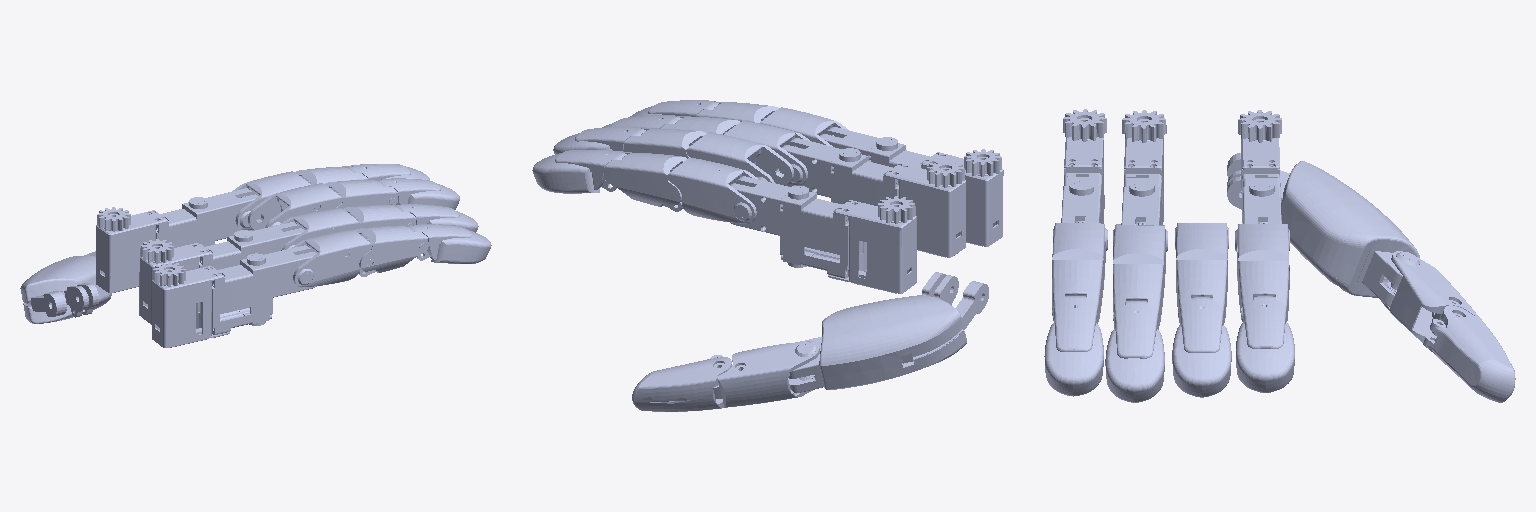
--- Render facts (derived) ---
The picture shows the robot from 3 angles, left to right: view 1: azimuth 30°, elevation 25°; view 2: azimuth 150°, elevation 25°; view 3: azimuth 270°, elevation 25°; orthographic projection.
Robot: rightHand_9dof — 19 links, 18 joints (18 revolute); root link base_link; default pose: all joints at 0.
Visible links, largest first — view 1: j5_1, j2_1, j4_1, j1_1, j5_2, j5_3, j3_1, j5_4, j3_3, j4_2, j3_2, j2_2 (+4 smaller); view 2: j2_1, j1_1, j4_1, j5_1, j1_2, j1_3, j2_2, j2_3, j2_4, j3_1, j4_2, j3_2 (+6 smaller); view 3: j1_1, j1_3, j4_4, j5_4, j3_3, j2_4, j4_1, j5_1, j2_1, j1_2, j3_2, j4_3 (+6 smaller).
Boxes of the visible links, box(x1,y1,x2,y2) form: j5_1: box(152, 245, 316, 347); j2_1: box(96, 188, 258, 292); j4_1: box(139, 222, 304, 324); j1_1: box(20, 255, 111, 323); j5_2: box(292, 229, 372, 287); j5_3: box(355, 225, 428, 276); j3_1: box(248, 183, 342, 229); j5_4: box(409, 224, 491, 263); j3_3: box(378, 178, 459, 209); j4_2: box(280, 208, 360, 250); j3_2: box(325, 180, 397, 208); j2_2: box(233, 171, 310, 229); j2_1: box(730, 176, 916, 293); j1_1: box(788, 272, 988, 393); j4_1: box(781, 138, 965, 257); j5_1: box(820, 127, 1003, 246); j1_2: box(713, 341, 819, 407); j1_3: box(632, 355, 731, 411); j2_2: box(667, 157, 757, 223); j2_3: box(604, 152, 686, 211); j2_4: box(532, 150, 626, 193); j3_1: box(686, 132, 793, 184); j4_2: box(723, 121, 809, 185); j3_2: box(623, 128, 706, 158); j1_1: box(1227, 153, 1419, 306); j1_3: box(1423, 305, 1515, 402); j4_4: box(1105, 301, 1164, 402); j5_4: box(1044, 296, 1103, 396); j3_3: box(1172, 297, 1231, 397); j2_4: box(1236, 296, 1294, 392); j4_1: box(1121, 110, 1166, 225); j5_1: box(1061, 109, 1106, 223); j2_1: box(1238, 110, 1281, 223); j1_2: box(1381, 251, 1478, 342); j3_2: box(1176, 260, 1227, 322); j4_3: box(1113, 264, 1164, 325).
Bounding box of the posed robot: 0.1912 × 0.1491 × 0.069 m (x, y, z).
Meshes: 19 distinct files referenced, 18 mesh visuals loaded (18 binary STL); not drawn: 1 (reference not matched to a file when rendering).

URDF robot description (rightHand_9dof):
<?xml version="1.0" encoding="utf-8"?>
<!-- This URDF was automatically created by SolidWorks to URDF Exporter! Originally created by Stephen Brawner ([email redacted])
     Commit Version: 1.6.0-1-g15f4949  Build Version: 1.6.7594.29634
     For more information, please see http://wiki.ros.org/sw_urdf_exporter -->
<robot
  name="rightHand_9dof">
  <link
    name="base_link">
    <inertial>
      <origin
        xyz="0.0683624336020756 -0.00133735775793573 0.00194443427036355"
        rpy="0 0 0" />
      <mass
        value="0.111516747827465" />
      <inertia
        ixx="7.24670674983265E-05"
        ixy="-4.12951337771663E-06"
        ixz="-1.83910865466763E-05"
        iyy="0.00012585425251154"
        iyz="1.46558354404392E-08"
        izz="0.000170635293519076" />
    </inertial>
    <visual>
      <origin
        xyz="0 0 0"
        rpy="0 0 0" />
      <geometry>
        <mesh
          filename="package://rightHand_9dof/meshes/base_link.STL" />
      </geometry>
      <material
        name="">
        <color
          rgba="0.792156862745098 0.819607843137255 0.933333333333333 1" />
      </material>
    </visual>
    <collision>
      <origin
        xyz="0 0 0"
        rpy="0 0 0" />
      <geometry>
        <mesh
          filename="package://rightHand_9dof/meshes/base_link.STL" />
      </geometry>
    </collision>
  </link>
  <link
    name="j1_1">
    <inertial>
      <origin
        xyz="0.00848406510253458 0.0295164327405254 -0.0108446381518449"
        rpy="0 0 0" />
      <mass
        value="0.0258720017182747" />
      <inertia
        ixx="2.30258679820338E-06"
        ixy="-7.66260362752493E-07"
        ixz="2.64209290902013E-07"
        iyy="2.83812470500852E-06"
        iyz="5.93022884843978E-07"
        izz="4.30290730491524E-06" />
    </inertial>
    <visual>
      <origin
        xyz="0 0 0"
        rpy="0 0 0" />
      <geometry>
        <mesh
          filename="package://rightHand_9dof/meshes/j1_1.STL" />
      </geometry>
      <material
        name="">
        <color
          rgba="0.792156862745098 0.819607843137255 0.933333333333333 1" />
      </material>
    </visual>
    <collision>
      <origin
        xyz="0 0 0"
        rpy="0 0 0" />
      <geometry>
        <mesh
          filename="package://rightHand_9dof/meshes/j1_1.STL" />
      </geometry>
    </collision>
  </link>
  <joint
    name="j1_1"
    type="revolute">
    <origin
      xyz="0.049276 0.020943 -0.010147"
      rpy="0 0 0" />
    <parent
      link="base_link" />
    <child
      link="j1_1" />
    <axis
      xyz="-1 0 0" />
    <limit
      lower="0"
      upper="1"
      effort="100"
      velocity="1" />
  </joint>
  <link
    name="j1_2">
    <inertial>
      <origin
        xyz="0.0185269940540907 -0.00863728702103245 0.000630679208129425"
        rpy="0 0 0" />
      <mass
        value="0.00436160052960547" />
      <inertia
        ixx="1.09538423598491E-07"
        ixy="-1.41463437716397E-10"
        ixz="-1.43454756297572E-08"
        iyy="3.72258200350998E-07"
        iyz="-1.3602170050025E-11"
        izz="3.01794866509649E-07" />
    </inertial>
    <visual>
      <origin
        xyz="0 0 0"
        rpy="0 0 0" />
      <geometry>
        <mesh
          filename="package://rightHand_9dof/meshes/j1_2.STL" />
      </geometry>
      <material
        name="">
        <color
          rgba="0.792156862745098 0.819607843137255 0.933333333333333 1" />
      </material>
    </visual>
    <collision>
      <origin
        xyz="0 0 0"
        rpy="0 0 0" />
      <geometry>
        <mesh
          filename="package://rightHand_9dof/meshes/j1_2.STL" />
      </geometry>
    </collision>
  </link>
  <joint
    name="j1_2"
    type="revolute">
    <origin
      xyz="0.029931 0.046569 -0.026403"
      rpy="-1.8577 0.2094 0.6138" />
    <parent
      link="j1_1" />
    <child
      link="j1_2" />
    <axis
      xyz="0 1 0" />
    <limit
      lower="0"
      upper="0.7"
      effort="100"
      velocity="1" />
  </joint>
  <link
    name="j1_3">
    <inertial>
      <origin
        xyz="0.0139908429316881 0.00656827074719868 0.00277710647559409"
        rpy="0 0 0" />
      <mass
        value="0.00427701390410589" />
      <inertia
        ixx="1.79106034207539E-07"
        ixy="2.72655926748159E-11"
        ixz="-7.64663667598306E-08"
        iyy="4.68336237571597E-07"
        iyz="5.73525107872226E-11"
        izz="4.5285466241166E-07" />
    </inertial>
    <visual>
      <origin
        xyz="0 0 0"
        rpy="0 0 0" />
      <geometry>
        <mesh
          filename="package://rightHand_9dof/meshes/j1_3.STL" />
      </geometry>
      <material
        name="">
        <color
          rgba="0.792156862745098 0.819607843137255 0.933333333333333 1" />
      </material>
    </visual>
    <collision>
      <origin
        xyz="0 0 0"
        rpy="0 0 0" />
      <geometry>
        <mesh
          filename="package://rightHand_9dof/meshes/j1_3.STL" />
      </geometry>
    </collision>
  </link>
  <joint
    name="l1_3"
    type="revolute">
    <origin
      xyz="0.032618 -0.015195 -0.002939"
      rpy="0 0.28886 0" />
    <parent
      link="j1_2" />
    <child
      link="j1_3" />
    <axis
      xyz="0 1 0" />
    <limit
      lower="0"
      upper="1.2"
      effort="100"
      velocity="1" />
  </joint>
  <link
    name="j2_1">
    <inertial>
      <origin
        xyz="-0.0109021846028509 -0.00015123605073003 -0.0116035715077449"
        rpy="0 0 0" />
      <mass
        value="0.0097995031534712" />
      <inertia
        ixx="4.11996784059113E-07"
        ixy="2.85193849077289E-08"
        ixz="-3.04272408657525E-08"
        iyy="7.23220112640677E-07"
        iyz="8.87270160576237E-09"
        izz="5.47533905789446E-07" />
    </inertial>
    <visual>
      <origin
        xyz="0 0 0"
        rpy="0 0 0" />
      <geometry>
        <mesh
          filename="package://rightHand_9dof/meshes/j2_1.STL" />
      </geometry>
      <material
        name="">
        <color
          rgba="0.792156862745098 0.819607843137255 0.933333333333333 1" />
      </material>
    </visual>
    <collision>
      <origin
        xyz="0 0 0"
        rpy="0 0 0" />
      <geometry>
        <mesh
          filename="package://rightHand_9dof/meshes/j2_1.STL" />
      </geometry>
    </collision>
  </link>
  <joint
    name="j2_1"
    type="revolute">
    <origin
      xyz="0.10898 0.026943 0.018403"
      rpy="0 0 0" />
    <parent
      link="base_link" />
    <child
      link="j2_1" />
    <axis
      xyz="0 0 1" />
    <limit
      lower="0"
      upper="0.18"
      effort="100"
      velocity="1" />
  </joint>
  <link
    name="j2_2">
    <inertial>
      <origin
        xyz="0.0171533579024933 -0.00863762290849002 0.00324433960543084"
        rpy="0 0 0" />
      <mass
        value="0.00422246941453819" />
      <inertia
        ixx="1.11160146248491E-07"
        ixy="-5.59993033309821E-11"
        ixz="-4.14313728731318E-08"
        iyy="3.50459905277449E-07"
        iyz="-5.91425111271958E-11"
        izz="2.74998585933734E-07" />
    </inertial>
    <visual>
      <origin
        xyz="0 0 0"
        rpy="0 0 0" />
      <geometry>
        <mesh
          filename="package://rightHand_9dof/meshes/j2_2.STL" />
      </geometry>
      <material
        name="">
        <color
          rgba="0.792156862745098 0.819607843137255 0.933333333333333 1" />
      </material>
    </visual>
    <collision>
      <origin
        xyz="0 0 0"
        rpy="0 0 0" />
      <geometry>
        <mesh
          filename="package://rightHand_9dof/meshes/j2_2.STL" />
      </geometry>
    </collision>
  </link>
  <joint
    name="j2_2"
    type="revolute">
    <origin
      xyz="0.019329 0.0088622 -0.010155"
      rpy="0 0 0.010951" />
    <parent
      link="j2_1" />
    <child
      link="j2_2" />
    <axis
      xyz="0 1 0" />
    <limit
      lower="0"
      upper="1"
      effort="100"
      velocity="1" />
  </joint>
  <link
    name="j2_3">
    <inertial>
      <origin
        xyz="0.0109214429914886 -0.00187602538986797 0.00107581076765038"
        rpy="0 0 0" />
      <mass
        value="0.00368958148571398" />
      <inertia
        ixx="1.03511568568849E-07"
        ixy="-2.82958275569924E-09"
        ixz="-2.99211523130154E-08"
        iyy="2.99400310994048E-07"
        iyz="1.03169355496236E-09"
        izz="2.37303370115965E-07" />
    </inertial>
    <visual>
      <origin
        xyz="0 0 0"
        rpy="0 0 0" />
      <geometry>
        <mesh
          filename="package://rightHand_9dof/meshes/j2_3.STL" />
      </geometry>
      <material
        name="">
        <color
          rgba="0.792156862745098 0.819607843137255 0.933333333333333 1" />
      </material>
    </visual>
    <collision>
      <origin
        xyz="0 0 0"
        rpy="0 0 0" />
      <geometry>
        <mesh
          filename="package://rightHand_9dof/meshes/j2_3.STL" />
      </geometry>
    </collision>
  </link>
  <joint
    name="j2_3"
    type="revolute">
    <origin
      xyz="0.030752 -0.00665 -0.00026319"
      rpy="0 0 -0.010951" />
    <parent
      link="j2_2" />
    <child
      link="j2_3" />
    <axis
      xyz="-0.010951 0.99994 0" />
    <limit
      lower="0"
      upper="1.2"
      effort="100"
      velocity="1" />
  </joint>
  <link
    name="j2_4">
    <inertial>
      <origin
        xyz="0.0171356833785417 0.00754140550243854 -0.00437370313496573"
        rpy="0 0 0" />
      <mass
        value="0.0053306286942772" />
      <inertia
        ixx="1.49578611703066E-07"
        ixy="-2.06240158585904E-09"
        ixz="3.13081921463205E-08"
        iyy="3.31142859176749E-07"
        iyz="3.34609662087195E-10"
        izz="4.1568953525289E-07" />
    </inertial>
    <visual>
      <origin
        xyz="0 0 0"
        rpy="0 0 0" />
      <geometry>
        <mesh
          filename="package://rightHand_9dof/meshes/j2_4.STL" />
      </geometry>
      <material
        name="">
        <color
          rgba="0.792156862745098 0.819607843137255 0.933333333333333 1" />
      </material>
    </visual>
    <collision>
      <origin
        xyz="0 0 0"
        rpy="0 0 0" />
      <geometry>
        <mesh
          filename="package://rightHand_9dof/meshes/j2_4.STL" />
      </geometry>
    </collision>
  </link>
  <joint
    name="j2_4"
    type="revolute">
    <origin
      xyz="0.025709 -0.009069 0.0015179"
      rpy="0 0 0" />
    <parent
      link="j2_3" />
    <child
      link="j2_4" />
    <axis
      xyz="-0.010951 0.99994 0" />
    <limit
      lower="0"
      upper="1.2"
      effort="100"
      velocity="1" />
  </joint>
  <link
    name="j3_1">
    <inertial>
      <origin
        xyz="0.0171788941519819 -0.00863762322958384 0.00310629702161309"
        rpy="0 0 0" />
      <mass
        value="0.00422246986527843" />
      <inertia
        ixx="1.10504442431439E-07"
        ixy="-5.64785967125181E-11"
        ixz="-4.01085894305379E-08"
        iyy="3.50459811527955E-07"
        iyz="-5.86918121489264E-11"
        izz="2.75654173343156E-07" />
    </inertial>
    <visual>
      <origin
        xyz="0 0 0"
        rpy="0 0 0" />
      <geometry>
        <mesh
          filename="package://rightHand_9dof/meshes/j3_1.STL" />
      </geometry>
      <material
        name="">
        <color
          rgba="0.792156862745098 0.819607843137255 0.933333333333333 1" />
      </material>
    </visual>
    <collision>
      <origin
        xyz="0 0 0"
        rpy="0 0 0" />
      <geometry>
        <mesh
          filename="package://rightHand_9dof/meshes/j3_1.STL" />
      </geometry>
    </collision>
  </link>
  <joint
    name="j3_1"
    type="revolute">
    <origin
      xyz="0.1314 0.016593 0.010248"
      rpy="0 0 0" />
    <parent
      link="base_link" />
    <child
      link="j3_1" />
    <axis
      xyz="0 1 0" />
    <limit
      lower="0"
      upper="1"
      effort="100"
      velocity="1" />
  </joint>
  <link
    name="j3_2">
    <inertial>
      <origin
        xyz="0.0109245620397546 -0.00199550046122171 0.000791537803867419"
        rpy="0 0 0" />
      <mass
        value="0.00368958849911514" />
      <inertia
        ixx="1.02006534347949E-07"
        ixy="-6.48239488302116E-10"
        ixz="-2.63828228369243E-08"
        iyy="2.99439186141209E-07"
        iyz="1.3766962809963E-09"
        izz="2.38770314273155E-07" />
    </inertial>
    <visual>
      <origin
        xyz="0 0 0"
        rpy="0 0 0" />
      <geometry>
        <mesh
          filename="package://rightHand_9dof/meshes/j3_2.STL" />
      </geometry>
      <material
        name="">
        <color
          rgba="0.792156862745098 0.819607843137255 0.933333333333333 1" />
      </material>
    </visual>
    <collision>
      <origin
        xyz="0 0 0"
        rpy="0 0 0" />
      <geometry>
        <mesh
          filename="package://rightHand_9dof/meshes/j3_2.STL" />
      </geometry>
    </collision>
  </link>
  <joint
    name="j3_2"
    type="revolute">
    <origin
      xyz="0.030748 -0.00665 -0.00051046"
      rpy="0 0 0" />
    <parent
      link="j3_1" />
    <child
      link="j3_2" />
    <axis
      xyz="0 1 0" />
    <limit
      lower="0"
      upper="1.2"
      effort="100"
      velocity="1" />
  </joint>
  <link
    name="j3_3">
    <inertial>
      <origin
        xyz="0.0169896947318144 0.0073532842341105 -0.00518784007591633"
        rpy="0 0 0" />
      <mass
        value="0.00533064050031233" />
      <inertia
        ixx="1.53132932724755E-07"
        ixy="-7.33375414546117E-11"
        ixz="4.38149526437134E-08"
        iyy="3.31167223103925E-07"
        iyz="-5.1176459049974E-12"
        izz="4.1211229778684E-07" />
    </inertial>
    <visual>
      <origin
        xyz="0 0 0"
        rpy="0 0 0" />
      <geometry>
        <mesh
          filename="package://rightHand_9dof/meshes/j3_3.STL" />
      </geometry>
      <material
        name="">
        <color
          rgba="0.792156862745098 0.819607843137255 0.933333333333333 1" />
      </material>
    </visual>
    <collision>
      <origin
        xyz="0 0 0"
        rpy="0 0 0" />
      <geometry>
        <mesh
          filename="package://rightHand_9dof/meshes/j3_3.STL" />
      </geometry>
    </collision>
  </link>
  <joint
    name="j3_3"
    type="revolute">
    <origin
      xyz="0.025639 -0.00935 0.00085035"
      rpy="0 0 0" />
    <parent
      link="j3_2" />
    <child
      link="j3_3" />
    <axis
      xyz="0 1 0" />
    <limit
      lower="0"
      upper="1.2"
      effort="100"
      velocity="1" />
  </joint>
  <link
    name="j4_1">
    <inertial>
      <origin
        xyz="-0.0109013296247695 0.000204051783920106 -0.0116035731120066"
        rpy="0 0 0" />
      <mass
        value="0.00979950097155459" />
      <inertia
        ixx="4.14184626376735E-07"
        ixy="3.85935281900356E-08"
        ixz="-3.01219956160942E-08"
        iyy="7.21032352424665E-07"
        iyz="9.85934987615233E-09"
        izz="5.47533875129547E-07" />
    </inertial>
    <visual>
      <origin
        xyz="0 0 0"
        rpy="0 0 0" />
      <geometry>
        <mesh
          filename="package://rightHand_9dof/meshes/j4_1.STL" />
      </geometry>
      <material
        name="">
        <color
          rgba="0.792156862745098 0.819607843137255 0.933333333333333 1" />
      </material>
    </visual>
    <collision>
      <origin
        xyz="0 0 0"
        rpy="0 0 0" />
      <geometry>
        <mesh
          filename="package://rightHand_9dof/meshes/j4_1.STL" />
      </geometry>
    </collision>
  </link>
  <joint
    name="j4_1"
    type="revolute">
    <origin
      xyz="0.10898 -0.011057 0.018403"
      rpy="0 0 0" />
    <parent
      link="base_link" />
    <child
      link="j4_1" />
    <axis
      xyz="0 0 1" />
    <limit
      lower="-0.18"
      upper="0"
      effort="100"
      velocity="1" />
  </joint>
  <link
    name="j4_2">
    <inertial>
      <origin
        xyz="0.0170606118935363 -0.00900882777667383 0.00267365194958995"
        rpy="0 0 0" />
      <mass
        value="0.00422246949737102" />
      <inertia
        ixx="1.08704366502169E-07"
        ixy="5.17349649423523E-09"
        ixz="-3.59022958709971E-08"
        iyy="3.50349257545927E-07"
        iyz="7.19630107751398E-10"
        izz="2.77565029173594E-07" />
    </inertial>
    <visual>
      <origin
        xyz="0 0 0"
        rpy="0 0 0" />
      <geometry>
        <mesh
          filename="package://rightHand_9dof/meshes/j4_2.STL" />
      </geometry>
      <material
        name="">
        <color
          rgba="0.792156862745098 0.819607843137255 0.933333333333333 1" />
      </material>
    </visual>
    <collision>
      <origin
        xyz="0 0 0"
        rpy="0 0 0" />
      <geometry>
        <mesh
          filename="package://rightHand_9dof/meshes/j4_2.STL" />
      </geometry>
    </collision>
  </link>
  <joint
    name="j4_2"
    type="revolute">
    <origin
      xyz="0.019608 0.0082277 -0.010155"
      rpy="0 0 0" />
    <parent
      link="j4_1" />
    <child
      link="j4_2" />
    <axis
      xyz="0.021634 0.99977 0" />
    <limit
      lower="0"
      upper="1"
      effort="100"
      velocity="1" />
  </joint>
  <link
    name="j4_3">
    <inertial>
      <origin
        xyz="0.0108751295852679 -0.00223129382300563 0.000841077351097966"
        rpy="0 0 0" />
      <mass
        value="0.0036895881402408" />
      <inertia
        ixx="1.02312603625203E-07"
        ixy="3.61119507393826E-09"
        ixz="-2.69659694272963E-08"
        iyy="2.99375120419354E-07"
        iyz="1.95758497633368E-09"
        izz="2.3852815188124E-07" />
    </inertial>
    <visual>
      <origin
        xyz="0 0 0"
        rpy="0 0 0" />
      <geometry>
        <mesh
          filename="package://rightHand_9dof/meshes/j4_3.STL" />
      </geometry>
      <material
        name="">
        <color
          rgba="0.792156862745098 0.819607843137255 0.933333333333333 1" />
      </material>
    </visual>
    <collision>
      <origin
        xyz="0 0 0"
        rpy="0 0 0" />
      <geometry>
        <mesh
          filename="package://rightHand_9dof/meshes/j4_3.STL" />
      </geometry>
    </collision>
  </link>
  <joint
    name="j4_3"
    type="revolute">
    <origin
      xyz="0.030575 -0.0073132 -0.0012829"
      rpy="0 0 0" />
    <parent
      link="j4_2" />
    <child
      link="j4_3" />
    <axis
      xyz="0.021634 0.99977 0" />
    <limit
      lower="0"
      upper="1.2"
      effort="100"
      velocity="1" />
  </joint>
  <link
    name="j4_4">
    <inertial>
      <origin
        xyz="0.0170137677006189 0.00698679920200732 -0.00559899726887094"
        rpy="0 0 0" />
      <mass
        value="0.00533063169901466" />
      <inertia
        ixx="1.55493362593546E-07"
        ixy="3.72948242584322E-09"
        ixz="5.0039605172468E-08"
        iyy="3.31088903584455E-07"
        iyz="-1.08723883158221E-09"
        izz="4.09831390198328E-07" />
    </inertial>
    <visual>
      <origin
        xyz="0 0 0"
        rpy="0 0 0" />
      <geometry>
        <mesh
          filename="package://rightHand_9dof/meshes/j4_4.STL" />
      </geometry>
      <material
        name="">
        <color
          rgba="0.792156862745098 0.819607843137255 0.933333333333333 1" />
      </material>
    </visual>
    <collision>
      <origin
        xyz="0 0 0"
        rpy="0 0 0" />
      <geometry>
        <mesh
          filename="package://rightHand_9dof/meshes/j4_4.STL" />
      </geometry>
    </collision>
  </link>
  <joint
    name="j4_4"
    type="revolute">
    <origin
      xyz="0.025427 -0.0099024 0.00096663"
      rpy="0 0 0" />
    <parent
      link="j4_3" />
    <child
      link="j4_4" />
    <axis
      xyz="0.021634 0.99977 0" />
    <limit
      lower="0"
      upper="1.2"
      effort="100"
      velocity="1" />
  </joint>
  <link
    name="j5_1">
    <inertial>
      <origin
        xyz="-0.0109007280902581 0.00023399140851077 -0.0116035731811754"
        rpy="0 0 0" />
      <mass
        value="0.00979950096372399" />
      <inertia
        ixx="4.14398933084867E-07"
        ixy="3.94356965269345E-08"
        ixz="-3.00948030476297E-08"
        iyy="7.20818044944392E-07"
        iyz="9.94204324451879E-09"
        izz="5.47533875444598E-07" />
    </inertial>
    <visual>
      <origin
        xyz="0 0 0"
        rpy="0 0 0" />
      <geometry>
        <mesh
          filename="package://rightHand_9dof/meshes/j5_1.STL" />
      </geometry>
      <material
        name="">
        <color
          rgba="0.792156862745098 0.819607843137255 0.933333333333333 1" />
      </material>
    </visual>
    <collision>
      <origin
        xyz="0 0 0"
        rpy="0 0 0" />
      <geometry>
        <mesh
          filename="package://rightHand_9dof/meshes/j5_1.STL" />
      </geometry>
    </collision>
  </link>
  <joint
    name="j5_1"
    type="revolute">
    <origin
      xyz="0.10398 -0.030057 0.016403"
      rpy="0 0 0" />
    <parent
      link="base_link" />
    <child
      link="j5_1" />
    <axis
      xyz="0 0 1" />
    <limit
      lower="-0.18"
      upper="0"
      effort="100"
      velocity="1" />
  </joint>
  <link
    name="j5_2">
    <inertial>
      <origin
        xyz="0.0169389605954751 -0.00905328866489252 0.00323751882787298"
        rpy="0 0 0" />
      <mass
        value="0.00422246702333999" />
      <inertia
        ixx="1.11266739127937E-07"
        ixy="5.77723571968915E-09"
        ixz="-4.13553756605301E-08"
        iyy="3.50320229653206E-07"
        iyz="9.49390520792032E-10"
        izz="2.75031338209532E-07" />
    </inertial>
    <visual>
      <origin
        xyz="0 0 0"
        rpy="0 0 0" />
      <geometry>
        <mesh
          filename="package://rightHand_9dof/meshes/j5_2.STL" />
      </geometry>
      <material
        name="">
        <color
          rgba="0.792156862745098 0.819607843137255 0.933333333333333 1" />
      </material>
    </visual>
    <collision>
      <origin
        xyz="0 0 0"
        rpy="0 0 0" />
      <geometry>
        <mesh
          filename="package://rightHand_9dof/meshes/j5_2.STL" />
      </geometry>
    </collision>
  </link>
  <joint
    name="j5_2"
    type="revolute">
    <origin
      xyz="0.01963 0.0081738 -0.010155"
      rpy="0 0 0" />
    <parent
      link="j5_1" />
    <child
      link="j5_2" />
    <axis
      xyz="0.02438 0.9997 0" />
    <limit
      lower="0"
      upper="1"
      effort="100"
      velocity="1" />
  </joint>
  <link
    name="j5_3">
    <inertial>
      <origin
        xyz="0.0108549660189987 -0.00226081603883158 0.00100647894279877"
        rpy="0 0 0" />
      <mass
        value="0.0036895883812266" />
      <inertia
        ixx="1.03182031574829E-07"
        ixy="4.11093871186685E-09"
        ixz="-2.90127939909413E-08"
        iyy="2.99355097148529E-07"
        iyz="2.07160676717112E-09"
        izz="2.37678336631994E-07" />
    </inertial>
    <visual>
      <origin
        xyz="0 0 0"
        rpy="0 0 0" />
      <geometry>
        <mesh
          filename="package://rightHand_9dof/meshes/j5_3.STL" />
      </geometry>
      <material
        name="">
        <color
          rgba="0.792156862745098 0.819607843137255 0.933333333333333 1" />
      </material>
    </visual>
    <collision>
      <origin
        xyz="0 0 0"
        rpy="0 0 0" />
      <geometry>
        <mesh
          filename="package://rightHand_9dof/meshes/j5_3.STL" />
      </geometry>
    </collision>
  </link>
  <joint
    name="j5_3"
    type="revolute">
    <origin
      xyz="0.03058 -0.0073977 -0.00027542"
      rpy="0 0 0" />
    <parent
      link="j5_2" />
    <child
      link="j5_3" />
    <axis
      xyz="0.02438 0.9997 0" />
    <limit
      lower="0"
      upper="1.2"
      effort="100"
      velocity="1" />
  </joint>
  <link
    name="j5_4">
    <inertial>
      <origin
        xyz="0.017143730351838 0.00693733684723838 -0.00525331431961612"
        rpy="0 0 0" />
      <mass
        value="0.00533061967537462" />
      <inertia
        ixx="1.5357725633928E-07"
        ixy="4.25929038653895E-09"
        ixz="4.47981208037334E-08"
        iyy="3.31065134295965E-07"
        iyz="-1.09843485114837E-09"
        izz="4.11769636679655E-07" />
    </inertial>
    <visual>
      <origin
        xyz="0 0 0"
        rpy="0 0 0" />
      <geometry>
        <mesh
          filename="package://rightHand_9dof/meshes/j5_4.STL" />
      </geometry>
      <material
        name="">
        <color
          rgba="0.792156862745098 0.819607843137255 0.933333333333333 1" />
      </material>
    </visual>
    <collision>
      <origin
        xyz="0 0 0"
        rpy="0 0 0" />
      <geometry>
        <mesh
          filename="package://rightHand_9dof/meshes/j5_4.STL" />
      </geometry>
    </collision>
  </link>
  <joint
    name="j5_4"
    type="revolute">
    <origin
      xyz="0.025382 -0.0099718 0.001355"
      rpy="0 0 0" />
    <parent
      link="j5_3" />
    <child
      link="j5_4" />
    <axis
      xyz="0.02438 0.9997 0" />
    <limit
      lower="0"
      upper="1.2"
      effort="100"
      velocity="1" />
  </joint>
</robot>
